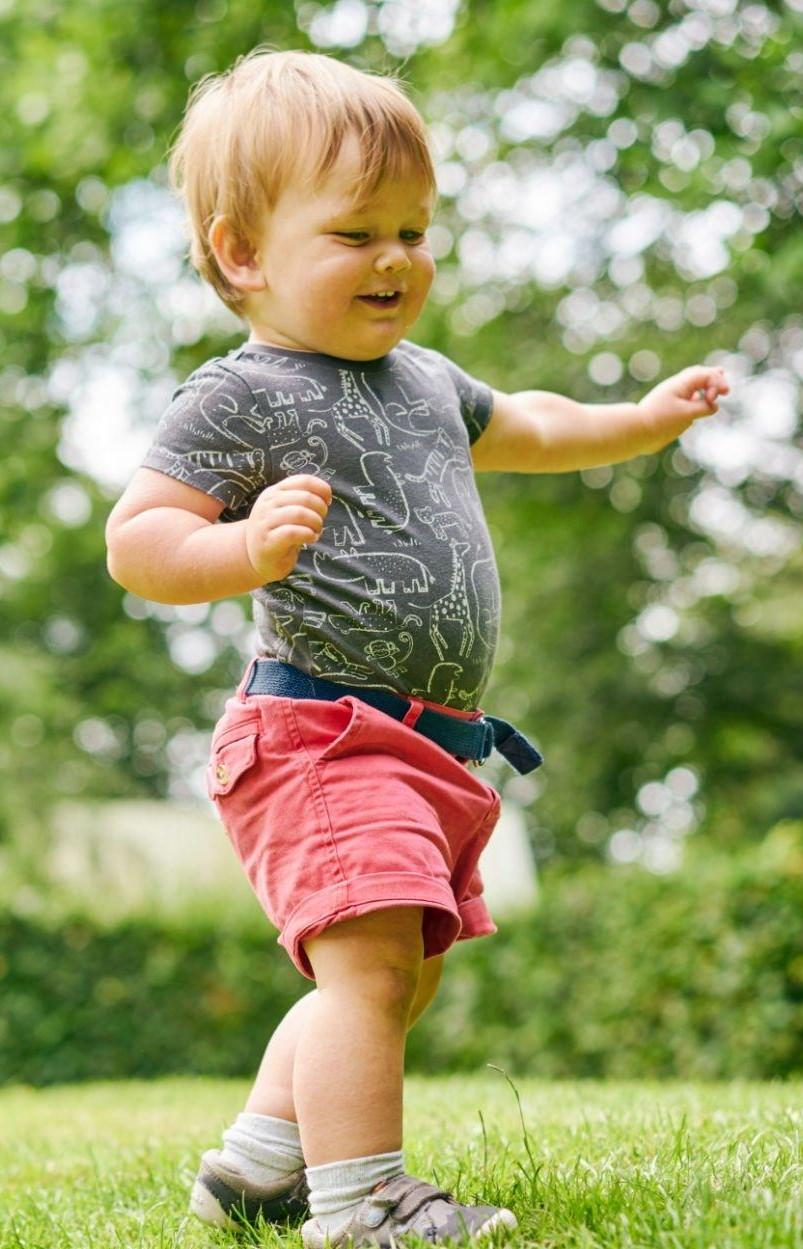Healthy: (224, 78, 462, 365)
